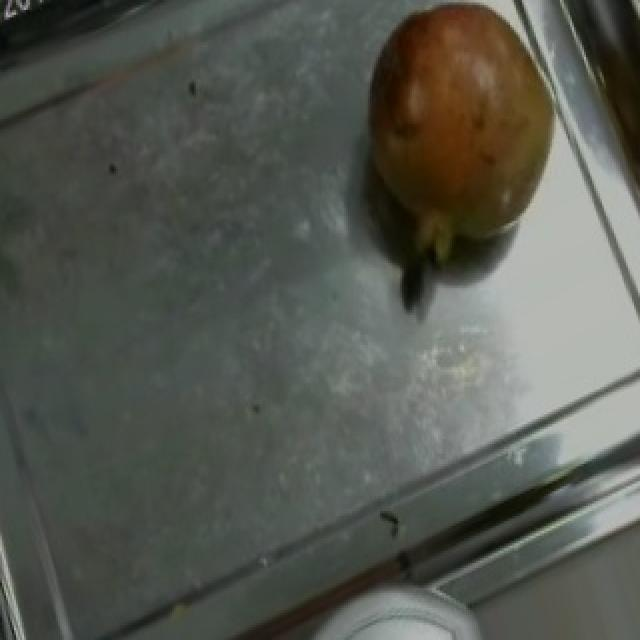fruit: (336, 0, 568, 275)
